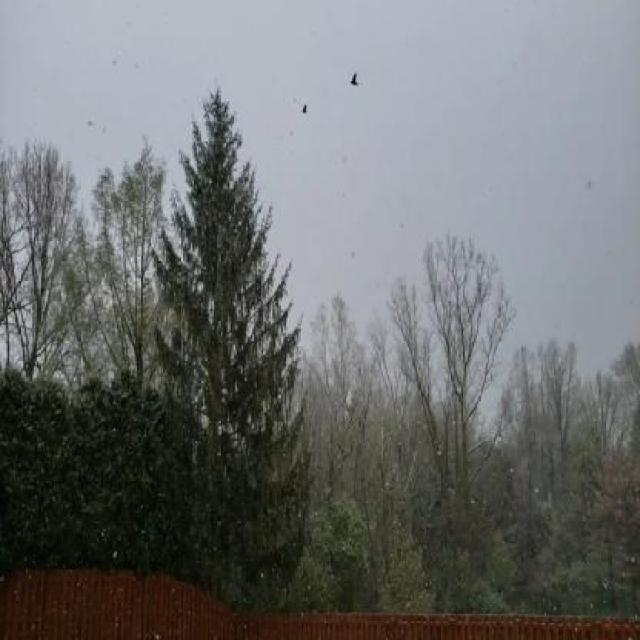bird: (348, 70, 359, 87), (301, 102, 307, 115)
